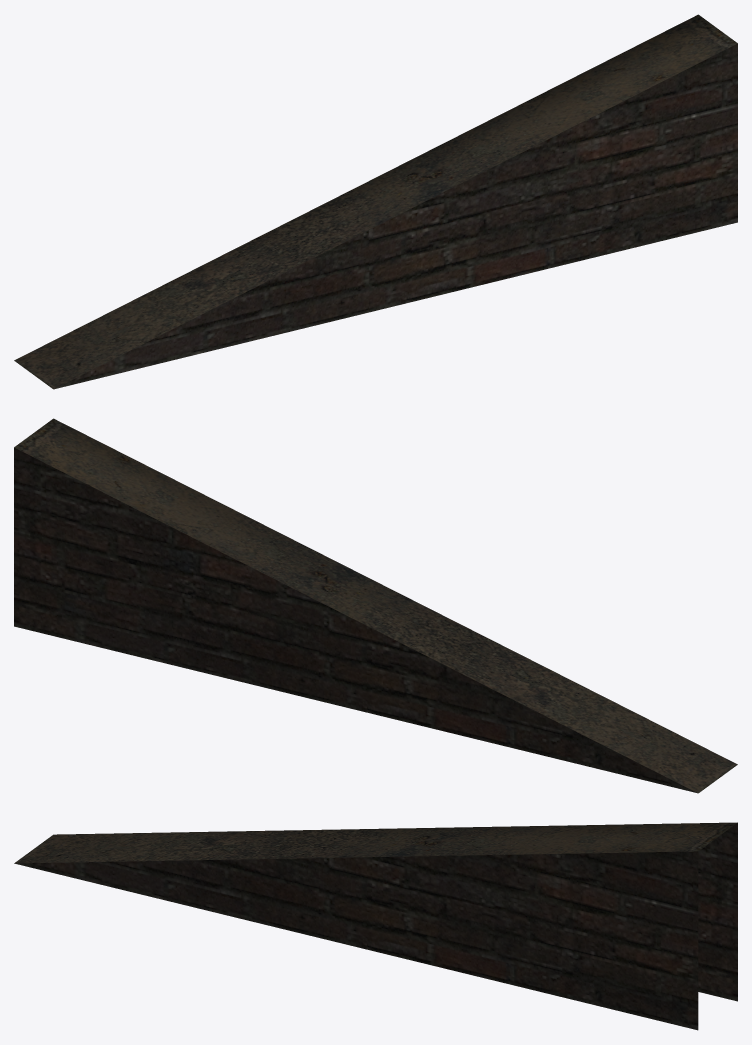
Rendered from wall_top_part_hs_1.fbx.
The picture shows the model from 3 angles, top to bottom: view 1: azimuth 30°, elevation 25°; view 2: azimuth 150°, elevation 25°; view 3: azimuth 330°, elevation 25°; orthographic projection.
Visible parts, largest first — view 1: wall_top_part_hs_1; view 2: wall_top_part_hs_1; view 3: wall_top_part_hs_1.
Part boxes in pixels (box(x1,y1,x2,y2)): wall_top_part_hs_1: box(14, 14, 737, 389); wall_top_part_hs_1: box(14, 418, 737, 793); wall_top_part_hs_1: box(14, 822, 737, 1030).
Size of the model in its own units: 4 by 0.4 by 1.
